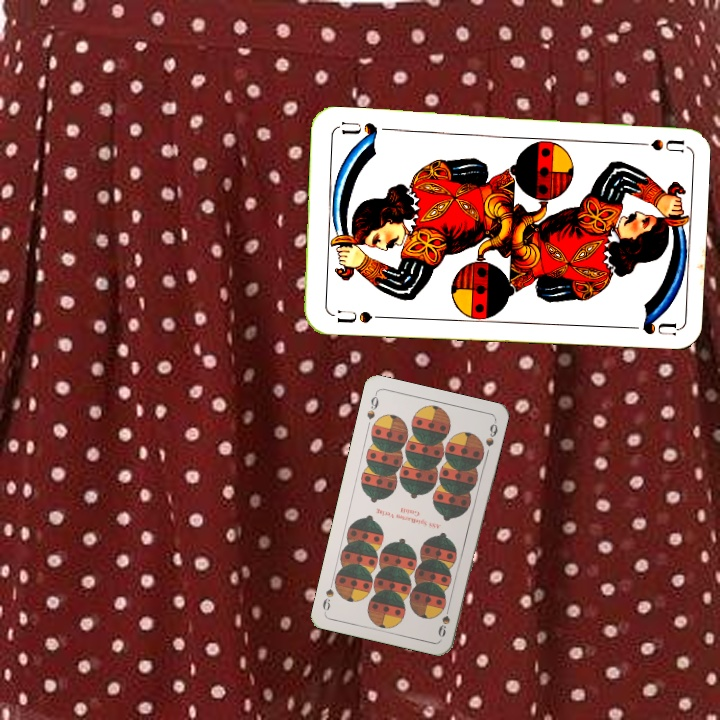S9: (434, 600, 453, 640), (363, 389, 381, 422)
SU: (328, 306, 387, 326), (625, 135, 684, 155)
